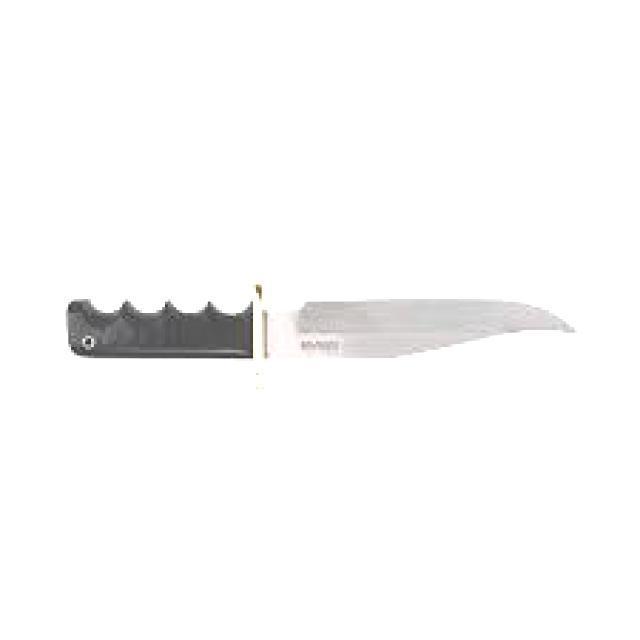Knife: (41, 256, 612, 409)
